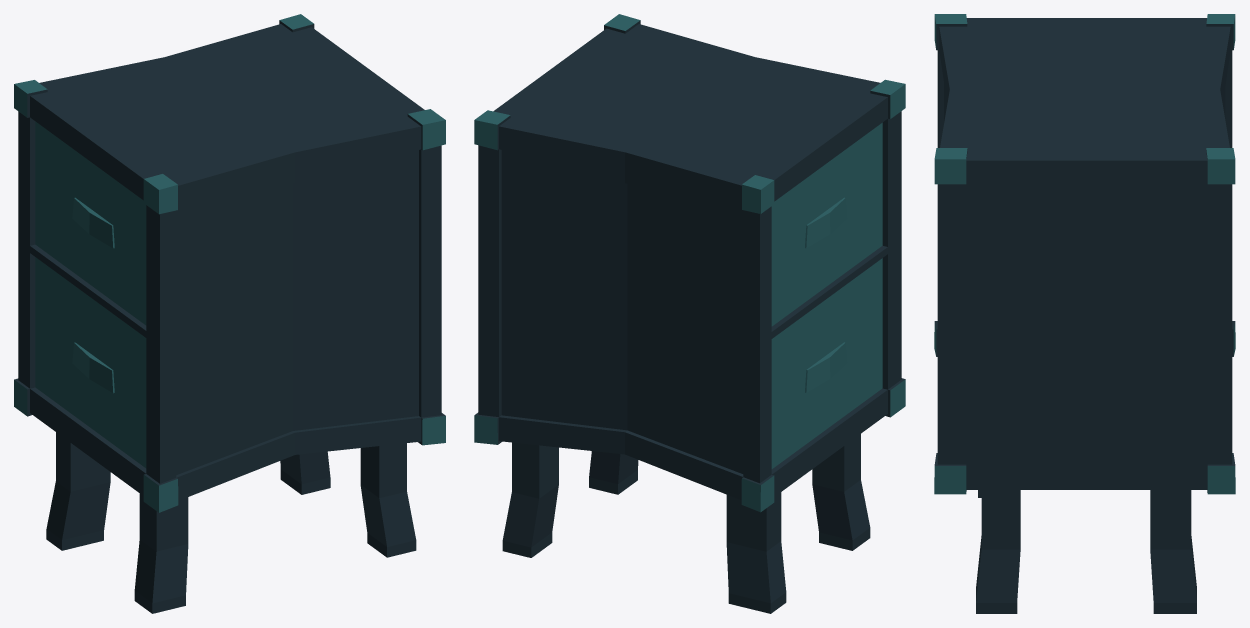
The model's file is Interior_Sidetable_Blue.fbx.
3 views of the same model, side by side, from view 1: azimuth 30°, elevation 25°; view 2: azimuth 150°, elevation 25°; view 3: azimuth 270°, elevation 25° (orthographic). The views are drawn at different scales.
Visible parts, largest first — view 1: Cube.242; view 2: Cube.242; view 3: Cube.242.
Boxes of the visible parts, x1,y1,x2,y2 form: Cube.242: (14,14,445,613); Cube.242: (474,14,905,613); Cube.242: (934,14,1235,613).
Size of the model in its own units: 39.54 by 58.33 by 34.63.
